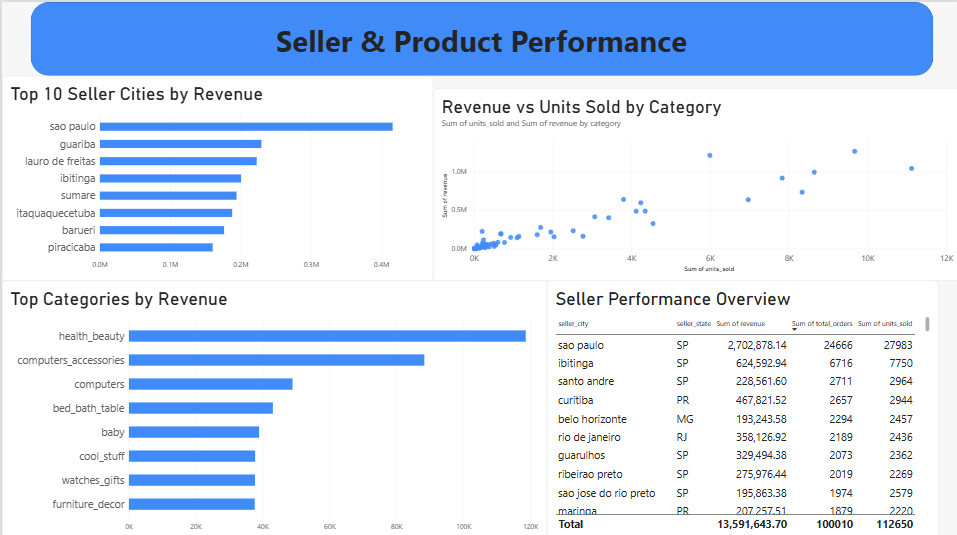

This screenshot's page, from the dashboard's own definition file:
{"tool":"powerbi","page":{"name":"Page 3","canvas":[1920,1080],"ordinal":2},"visuals":[{"type":"clusteredBarChart","title":"Top 10 Seller Cities by Revenue","fields":{"Category":["public vw_seller_performance.seller_city"],"Y":["Sum(public vw_seller_performance.revenue)"]},"box":[0,147.5,862.5,410],"z":0},{"type":"clusteredBarChart","title":"Top Categories by Revenue","fields":{"Category":["public vw_product_performance.category"],"Y":["Sum(public vw_product_performance.revenue)"]},"box":[0,557.5,1090,522.5],"z":1},{"type":"scatterChart","title":"Revenue vs Units Sold by Category","fields":{"Category":["public vw_product_performance.category"],"X":["Sum(public vw_product_performance.units_sold)"],"Y":["Sum(public vw_product_performance.revenue)"]},"box":[862.5,172.5,1057.5,385],"z":2},{"type":"tableEx","title":"Seller Performance Overview","fields":{"Values":["public vw_seller_performance.seller_city","public vw_seller_performance.seller_state","Sum(public vw_seller_performance.revenue)","Sum(public vw_seller_performance.total_orders)","Sum(public vw_seller_performance.units_sold)"]},"box":[1090,557.5,782.5,522.5],"z":3},{"type":"shape","box":[57.5,0,1805,147.5],"z":4},{"type":"textbox","box":[76.7,0,1763.3,146.7],"z":5}]}

Visuals, with their boxes in screenshot pixels (x1, y1, x2, y2), scaled from the page's 1920x1080 canvas onto the 957x535 screenshot:
"Top 10 Seller Cities by Revenue" clusteredBarChart: [left=0, top=73, right=430, bottom=276]
"Top Categories by Revenue" clusteredBarChart: [left=0, top=276, right=543, bottom=534]
"Revenue vs Units Sold by Category" scatterChart: [left=430, top=85, right=956, bottom=276]
"Seller Performance Overview" tableEx: [left=543, top=276, right=933, bottom=534]
shape: [left=29, top=0, right=928, bottom=73]
textbox: [left=38, top=0, right=917, bottom=73]
